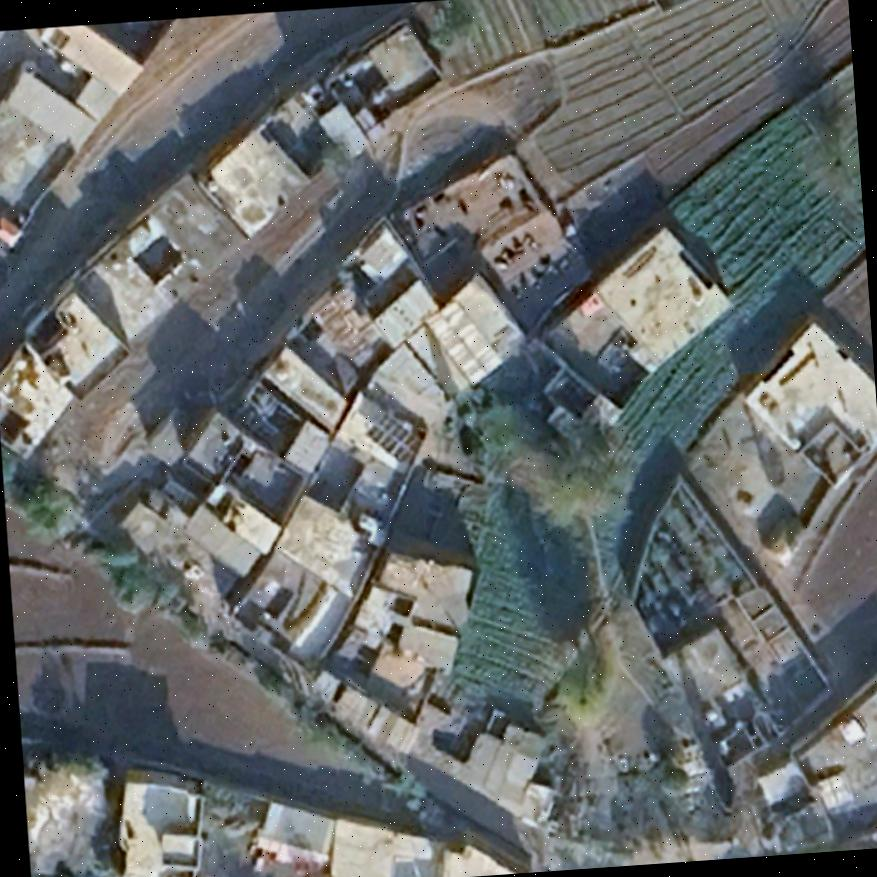Solarpanel: (361, 414, 413, 469)
